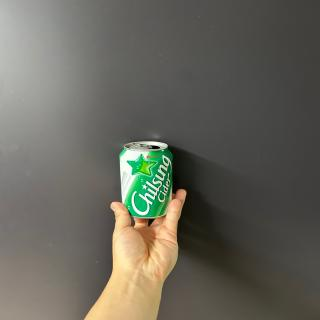cocacola: (119, 139, 174, 222)
